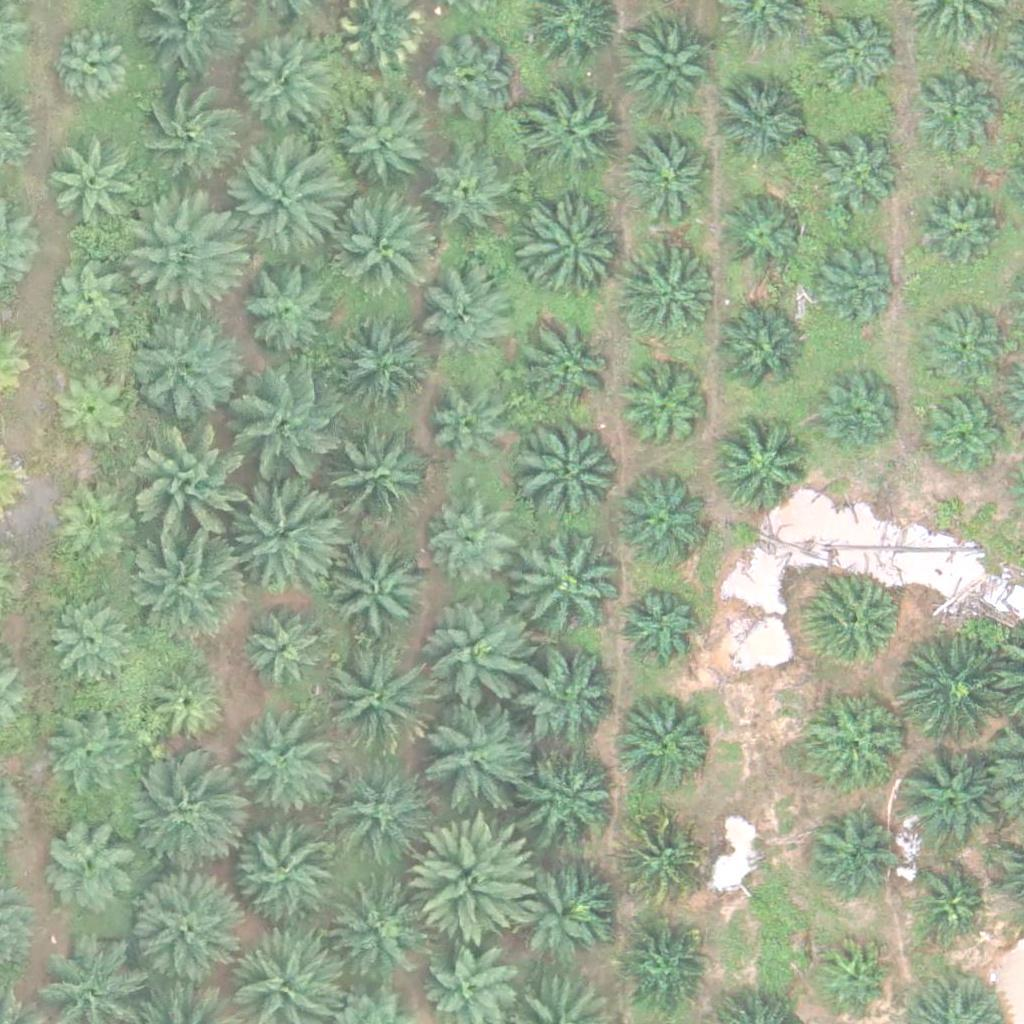Kelapa_Sawit: (414, 818, 539, 944), (416, 696, 529, 810), (317, 425, 430, 539), (318, 644, 431, 757), (322, 756, 435, 869), (229, 811, 342, 924), (126, 872, 239, 985), (895, 638, 1008, 751), (510, 527, 623, 640), (234, 371, 347, 484), (133, 529, 246, 642), (423, 602, 536, 715), (516, 412, 628, 526), (233, 148, 345, 262), (139, 433, 251, 547), (222, 712, 334, 825), (124, 763, 236, 876), (330, 194, 442, 307), (229, 476, 341, 589), (126, 307, 238, 420), (126, 192, 238, 305), (130, 79, 242, 192), (896, 747, 996, 848), (616, 689, 716, 790), (523, 748, 623, 849), (326, 877, 426, 978), (714, 71, 814, 172), (710, 303, 810, 404), (711, 419, 811, 520), (620, 247, 720, 348), (520, 87, 620, 188), (520, 203, 620, 304), (329, 541, 429, 642), (335, 92, 435, 193), (234, 253, 334, 354), (45, 137, 145, 238), (807, 690, 907, 790), (518, 655, 618, 755), (508, 855, 608, 955), (41, 813, 141, 913), (805, 575, 905, 675), (620, 14, 720, 114), (613, 475, 713, 575), (522, 319, 622, 419), (423, 263, 523, 363), (330, 319, 430, 419), (229, 35, 329, 135), (47, 23, 135, 112), (804, 807, 892, 895), (615, 813, 703, 901), (141, 662, 229, 750), (809, 6, 897, 94), (813, 134, 901, 222), (806, 236, 894, 324), (908, 184, 996, 272), (622, 369, 710, 457), (614, 582, 702, 670), (241, 607, 329, 695), (44, 363, 132, 451), (49, 486, 137, 574), (41, 712, 128, 801), (618, 921, 705, 1009), (813, 371, 900, 459), (923, 388, 1010, 476), (919, 303, 1006, 391), (910, 67, 997, 155), (718, 189, 805, 277), (627, 133, 714, 221), (430, 35, 517, 123), (427, 152, 514, 240), (427, 396, 514, 484), (432, 501, 519, 589), (47, 261, 134, 349), (48, 595, 135, 683), (816, 938, 891, 1014), (911, 864, 986, 939)
